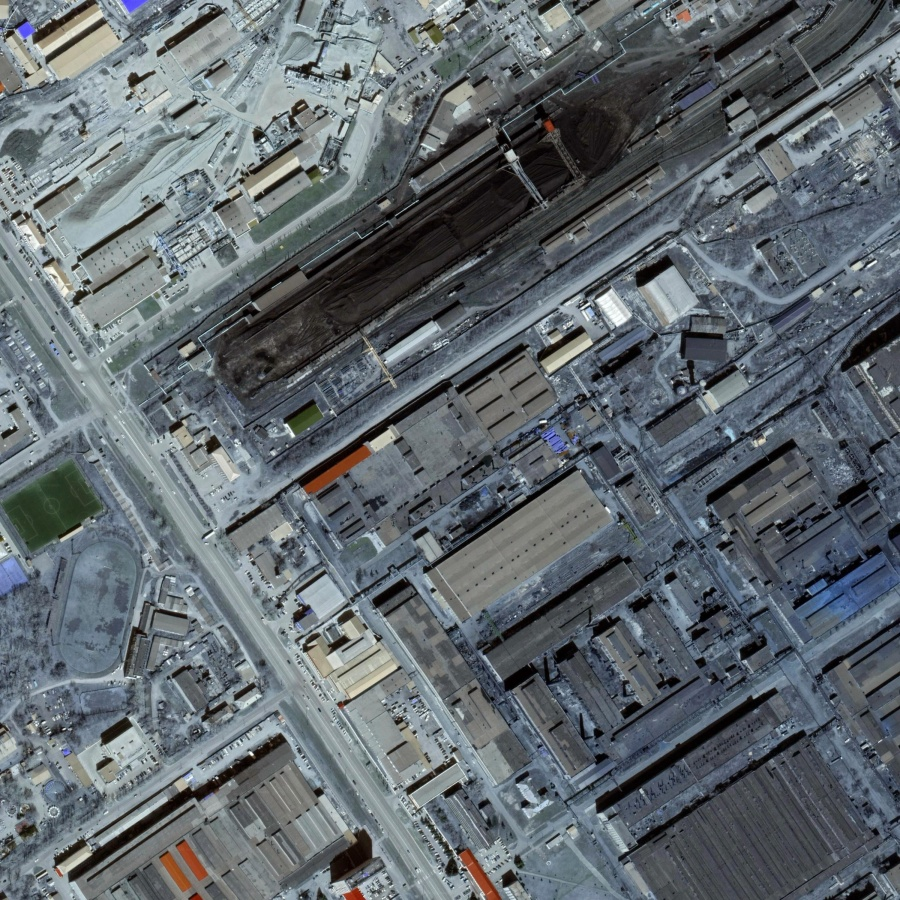PowerPlant: (190, 43, 663, 413)
